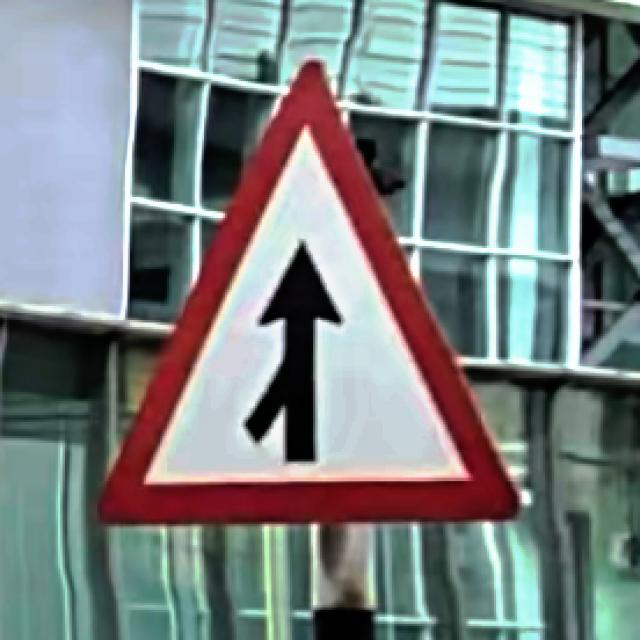leftmerge: (97, 58, 522, 529)
